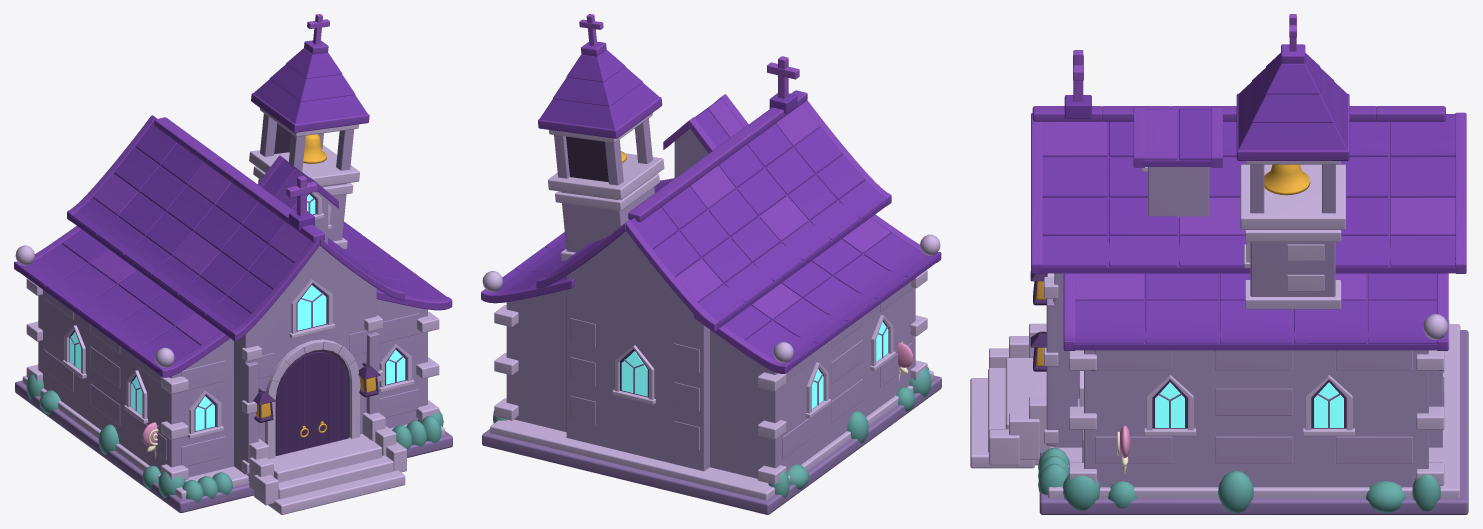
File: church_cartoon.glb
The picture shows the model from 3 angles, left to right: view 1: azimuth 30°, elevation 25°; view 2: azimuth 150°, elevation 25°; view 3: azimuth 270°, elevation 25°; orthographic projection. The views are drawn at different scales.
Visible parts, largest first — view 1: Main_Roof_-1_Tiles, Left_Side_House_Walls, Left_Wing_Roof_Tiles, Main_Nave_Shell, Double_Door, Wing_Front_Stone_Blocks, Foundation_Plinth, Main_Roof_-1_Deck, Side_Stone_Blocks, Entrance_Step_00, Stair_Cheeks, Corner_Quoins (+42 smaller); view 2: Main_Roof_-1_Tiles, Main_Nave_Shell, Left_Side_House_Walls, Left_Wing_Roof_Tiles, Right_Side_House_Walls, Foundation_Plinth, Foundation_Upper, Front_Rear_Stone_Blocks, Main_Roof_-1_Deck, Side_Stone_Blocks, Corner_Quoins, Roof_Ridge_Caps (+25 smaller); view 3: Main_Roof_1_Tiles, Right_Side_House_Walls, Right_Wing_Roof_Tiles, Side_Stone_Blocks, Foundation_Plinth, Foundation_Upper, Main_Roof_1_Deck, Right_Wing_Roof_Deck, Side_Mint_Gumdrops, Belfry_Floor, Spire_Tier_00, Stair_Cheeks (+33 smaller).
Part boxes in pixels (x1,y1,x2,y2): Main_Roof_-1_Tiles: [71, 121, 310, 332]; Left_Side_House_Walls: [38, 290, 233, 477]; Left_Wing_Roof_Tiles: [18, 229, 220, 368]; Main_Nave_Shell: [234, 246, 376, 474]; Double_Door: [275, 351, 348, 455]; Wing_Front_Stone_Blocks: [181, 313, 418, 466]; Foundation_Plinth: [15, 380, 452, 512]; Main_Roof_-1_Deck: [69, 143, 293, 338]; Side_Stone_Blocks: [43, 290, 166, 459]; Entrance_Step_00: [269, 434, 381, 482]; Stair_Cheeks: [246, 412, 406, 505]; Corner_Quoins: [26, 278, 439, 479]; Main_Roof_-1_Tiles: [631, 103, 886, 322]; Main_Nave_Shell: [566, 231, 709, 471]; Left_Side_House_Walls: [710, 287, 915, 478]; Left_Wing_Roof_Tiles: [724, 218, 936, 364]; Right_Side_House_Walls: [506, 290, 566, 432]; Foundation_Plinth: [482, 375, 941, 514]; Foundation_Upper: [490, 370, 933, 500]; Front_Rear_Stone_Blocks: [570, 318, 699, 450]; Main_Roof_-1_Deck: [653, 123, 887, 328]; Side_Stone_Blocks: [782, 281, 911, 458]; Corner_Quoins: [494, 270, 927, 484]; Roof_Ridge_Caps: [628, 90, 807, 222]; Main_Roof_1_Tiles: [1042, 114, 1455, 266]; Right_Side_House_Walls: [1084, 350, 1428, 487]; Right_Wing_Roof_Tiles: [1074, 273, 1437, 343]; Side_Stone_Blocks: [1095, 350, 1412, 463]; Foundation_Plinth: [1039, 330, 1468, 514]; Foundation_Upper: [1048, 324, 1460, 498]; Main_Roof_1_Deck: [1039, 121, 1458, 273]; Right_Wing_Roof_Deck: [1071, 273, 1440, 350]; Side_Mint_Gumdrops: [1062, 471, 1440, 513]; Belfry_Floor: [1240, 164, 1345, 229]; Spire_Tier_00: [1238, 82, 1347, 150]; Stair_Cheeks: [989, 323, 1054, 465].
Bounding box in the file's own units: 9.66 × 11.62 × 10.97.
